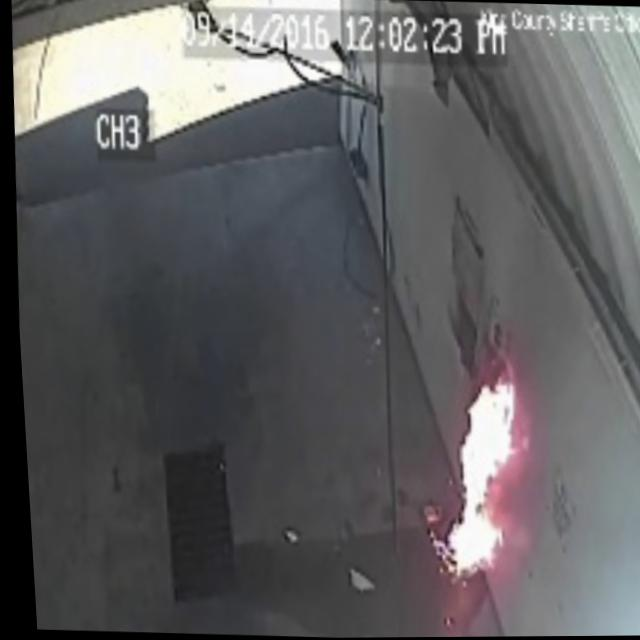fire: (432, 378, 522, 581)
